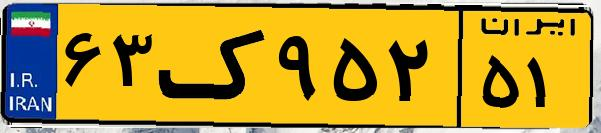1: (525, 38, 570, 115)
2: (385, 28, 445, 110)
3: (110, 28, 158, 98)
5: (330, 28, 385, 110), (475, 38, 525, 113)
6: (57, 26, 110, 100)
9: (270, 28, 330, 110)
ک: (158, 12, 270, 120)
